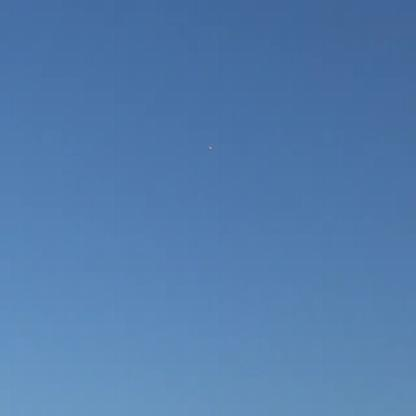CIV_Plane: (204, 138, 218, 156)
